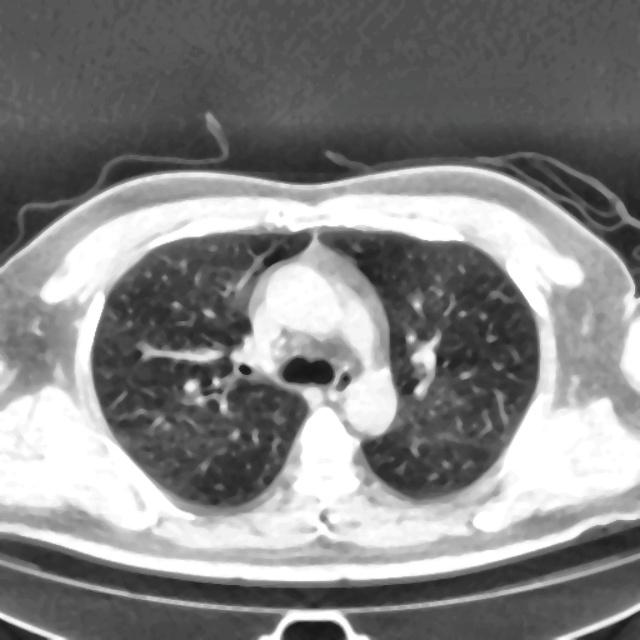covid: (0, 156, 639, 587)
